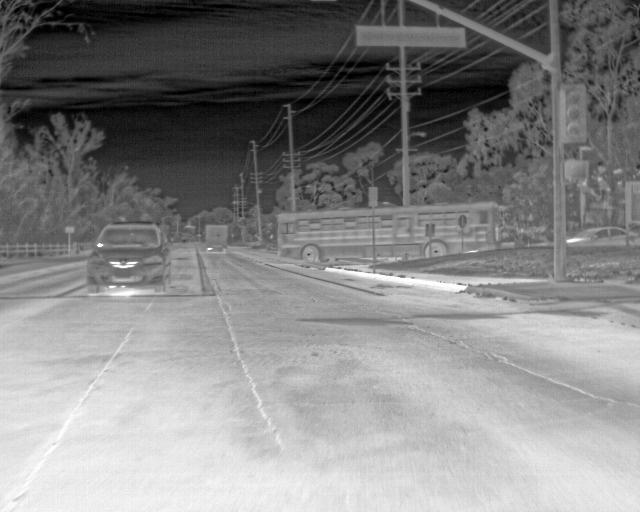car: (88, 220, 172, 294), (566, 226, 627, 246)
